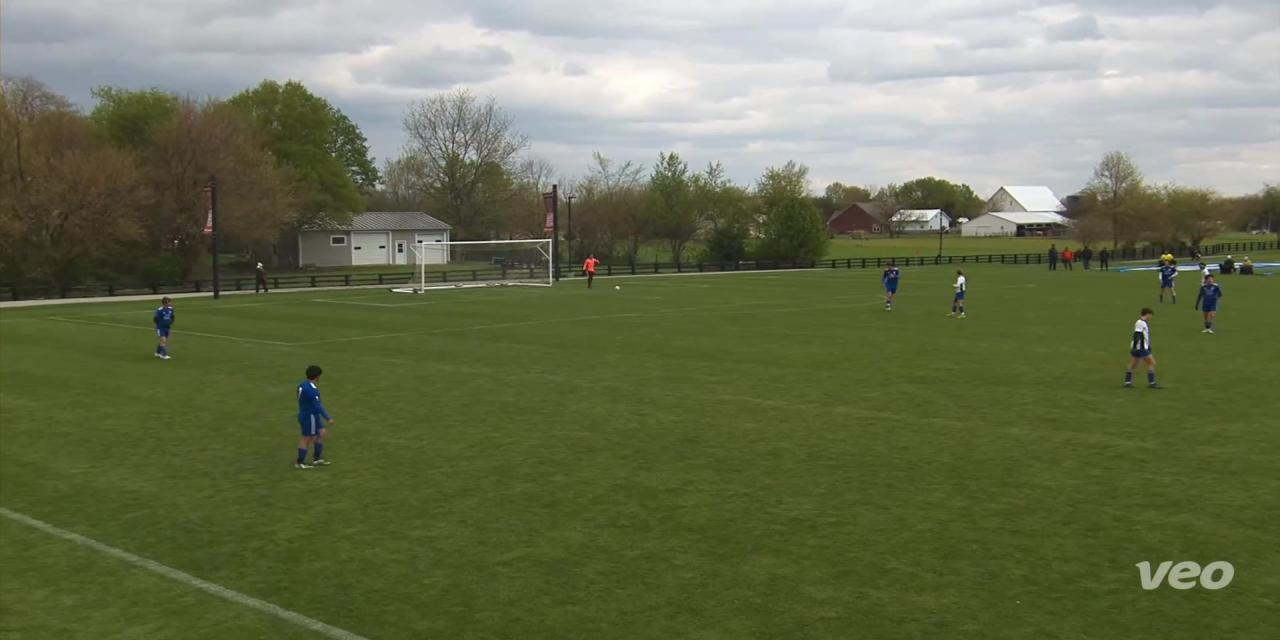goal: (368, 228, 568, 300)
sports ball: (615, 277, 624, 304)
